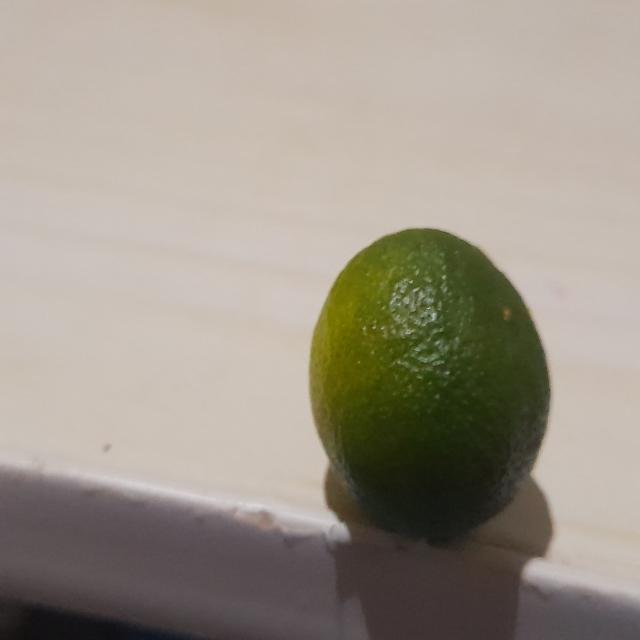heathy: (304, 227, 554, 553)
